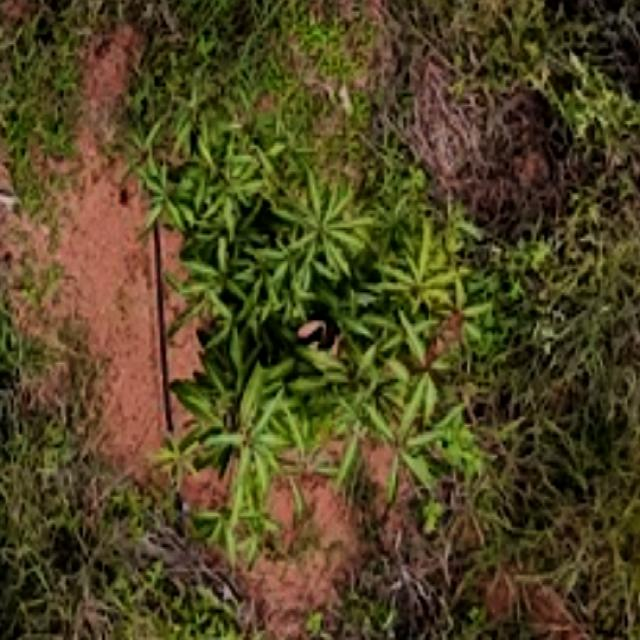mangoTree: (109, 90, 496, 577)
